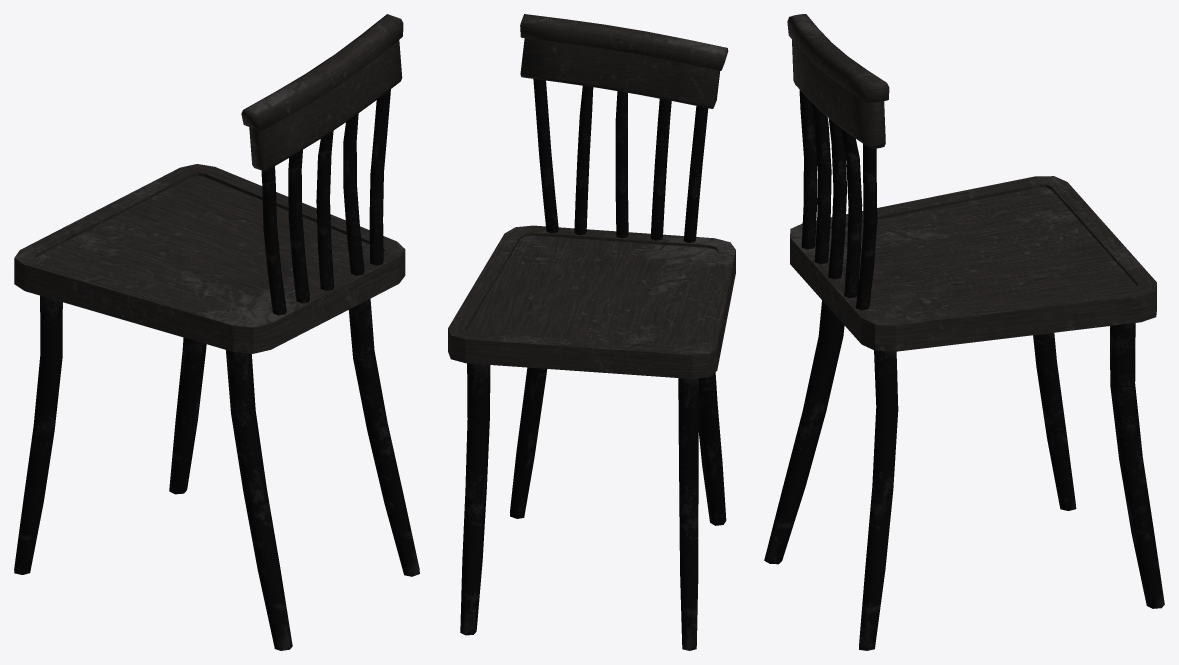
Rendered from Kitchen_chair_2.fbx.
3 renders of one model, left to right at view 1: azimuth 30°, elevation 25°; view 2: azimuth 150°, elevation 25°; view 3: azimuth 270°, elevation 25°, orthographic. The views are drawn at different scales.
Visible parts, largest first — view 1: Cylinder.002; view 2: Cylinder.002; view 3: Cylinder.002.
Part boxes in pixels (box(x1,y1,x2,y2)): Cylinder.002: box(14, 14, 419, 650); Cylinder.002: box(448, 14, 735, 650); Cylinder.002: box(764, 14, 1164, 650).
Bounding box in the file's own units: 55.6 × 94.88 × 61.41.
